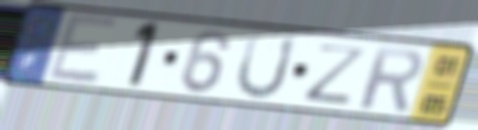1: (128, 21, 165, 92)
6: (177, 28, 234, 95)
E: (44, 11, 122, 86)
R: (357, 44, 426, 114)
U: (232, 31, 300, 102)
Z: (302, 42, 372, 107)
